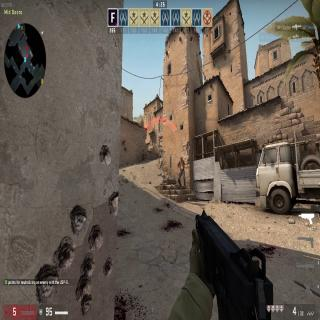CT-Body: (178, 156, 185, 188)
CT-Head: (180, 156, 182, 162)
